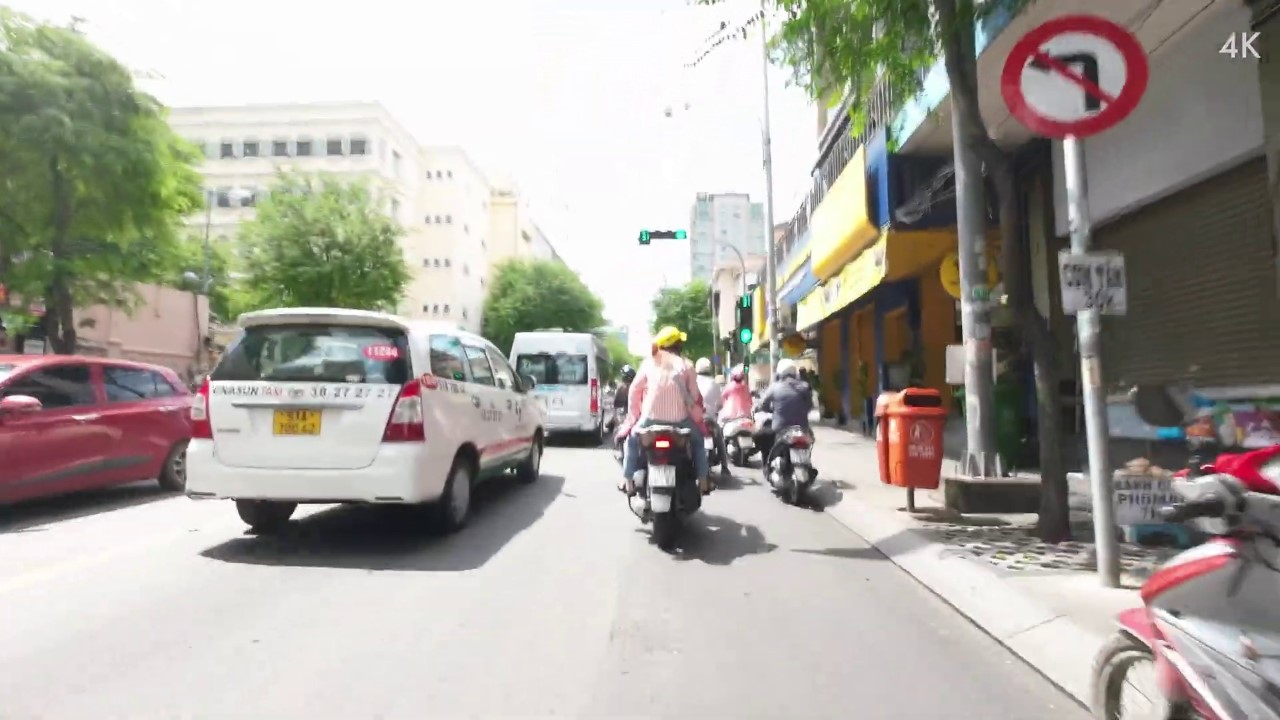cam_re_trai: (997, 12, 1155, 138)
